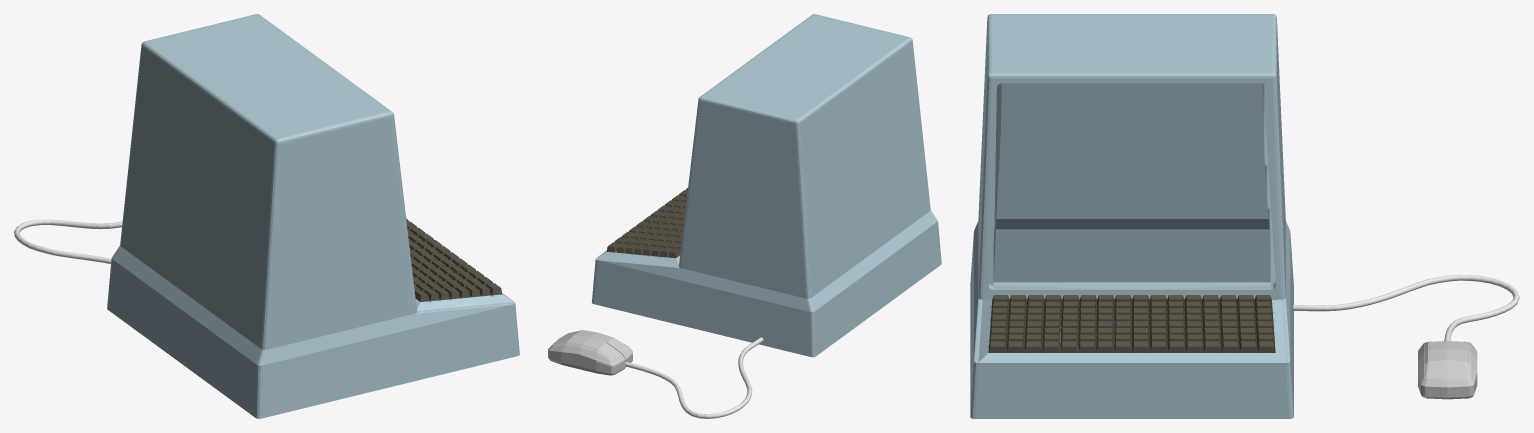
Rendered from Computer.fbx.
3 views of the same model, side by side, from view 1: azimuth 30°, elevation 25°; view 2: azimuth 150°, elevation 25°; view 3: azimuth 270°, elevation 25° (orthographic). The views are drawn at different scales.
Parts seen in each view (by area): view 1: Computer, MouseCable; view 2: Computer, Mouse, MouseCable; view 3: Computer, Mouse, MouseCable.
Boxes of the visible parts, x1,y1,x2,y2 form: Computer: (107, 14, 519, 418); MouseCable: (14, 219, 122, 264); Computer: (591, 14, 941, 357); Mouse: (548, 330, 632, 375); MouseCable: (625, 337, 763, 418); Computer: (970, 14, 1293, 418); Mouse: (1418, 341, 1477, 399); MouseCable: (1293, 274, 1519, 340).
Bounding box in the file's own units: 205 × 199 × 347.
